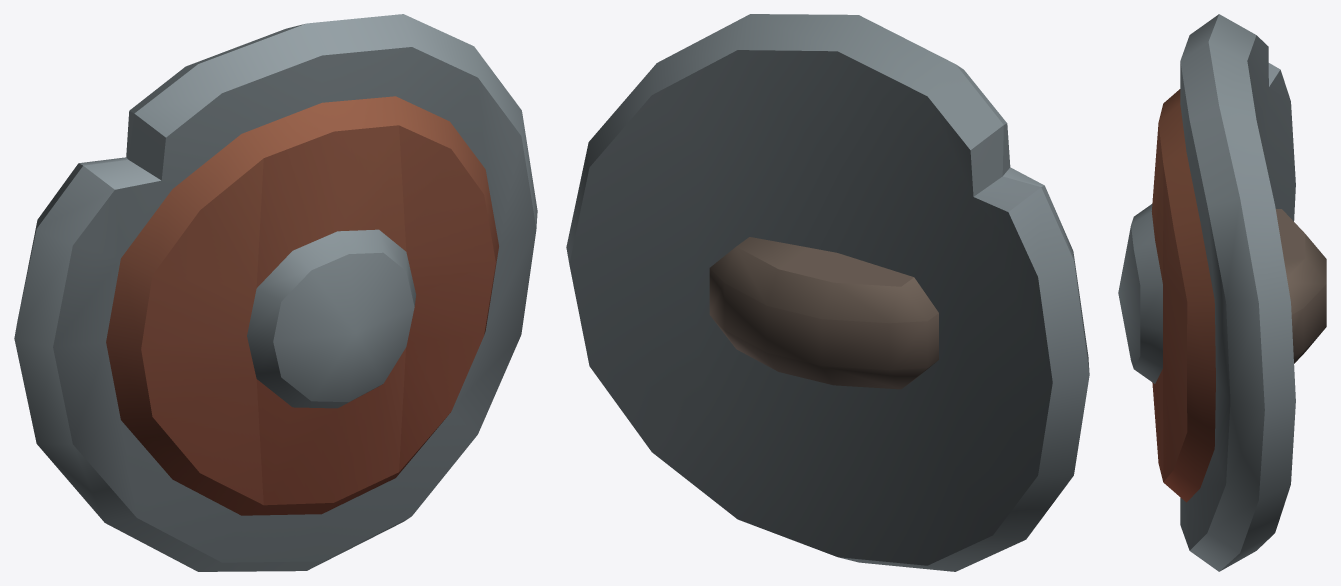
The model's file is gear-shield-round.glb.
3 renders of one model, left to right at view 1: azimuth 30°, elevation 25°; view 2: azimuth 150°, elevation 25°; view 3: azimuth 270°, elevation 25°, orthographic. The views are drawn at different scales.
Visible parts, largest first — view 1: shield_round; view 2: shield_round; view 3: shield_round.
Part boxes in pixels (<box>): shield_round: <box>14,14,537,571</box>; shield_round: <box>566,14,1089,571</box>; shield_round: <box>1118,14,1326,571</box>.
Size of the model in its own units: 0.8826 by 0.8826 by 0.3319.
